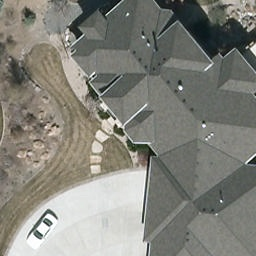car: (23, 212, 59, 251)
